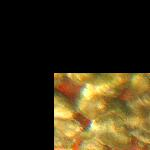dead: (52, 73, 147, 148)
